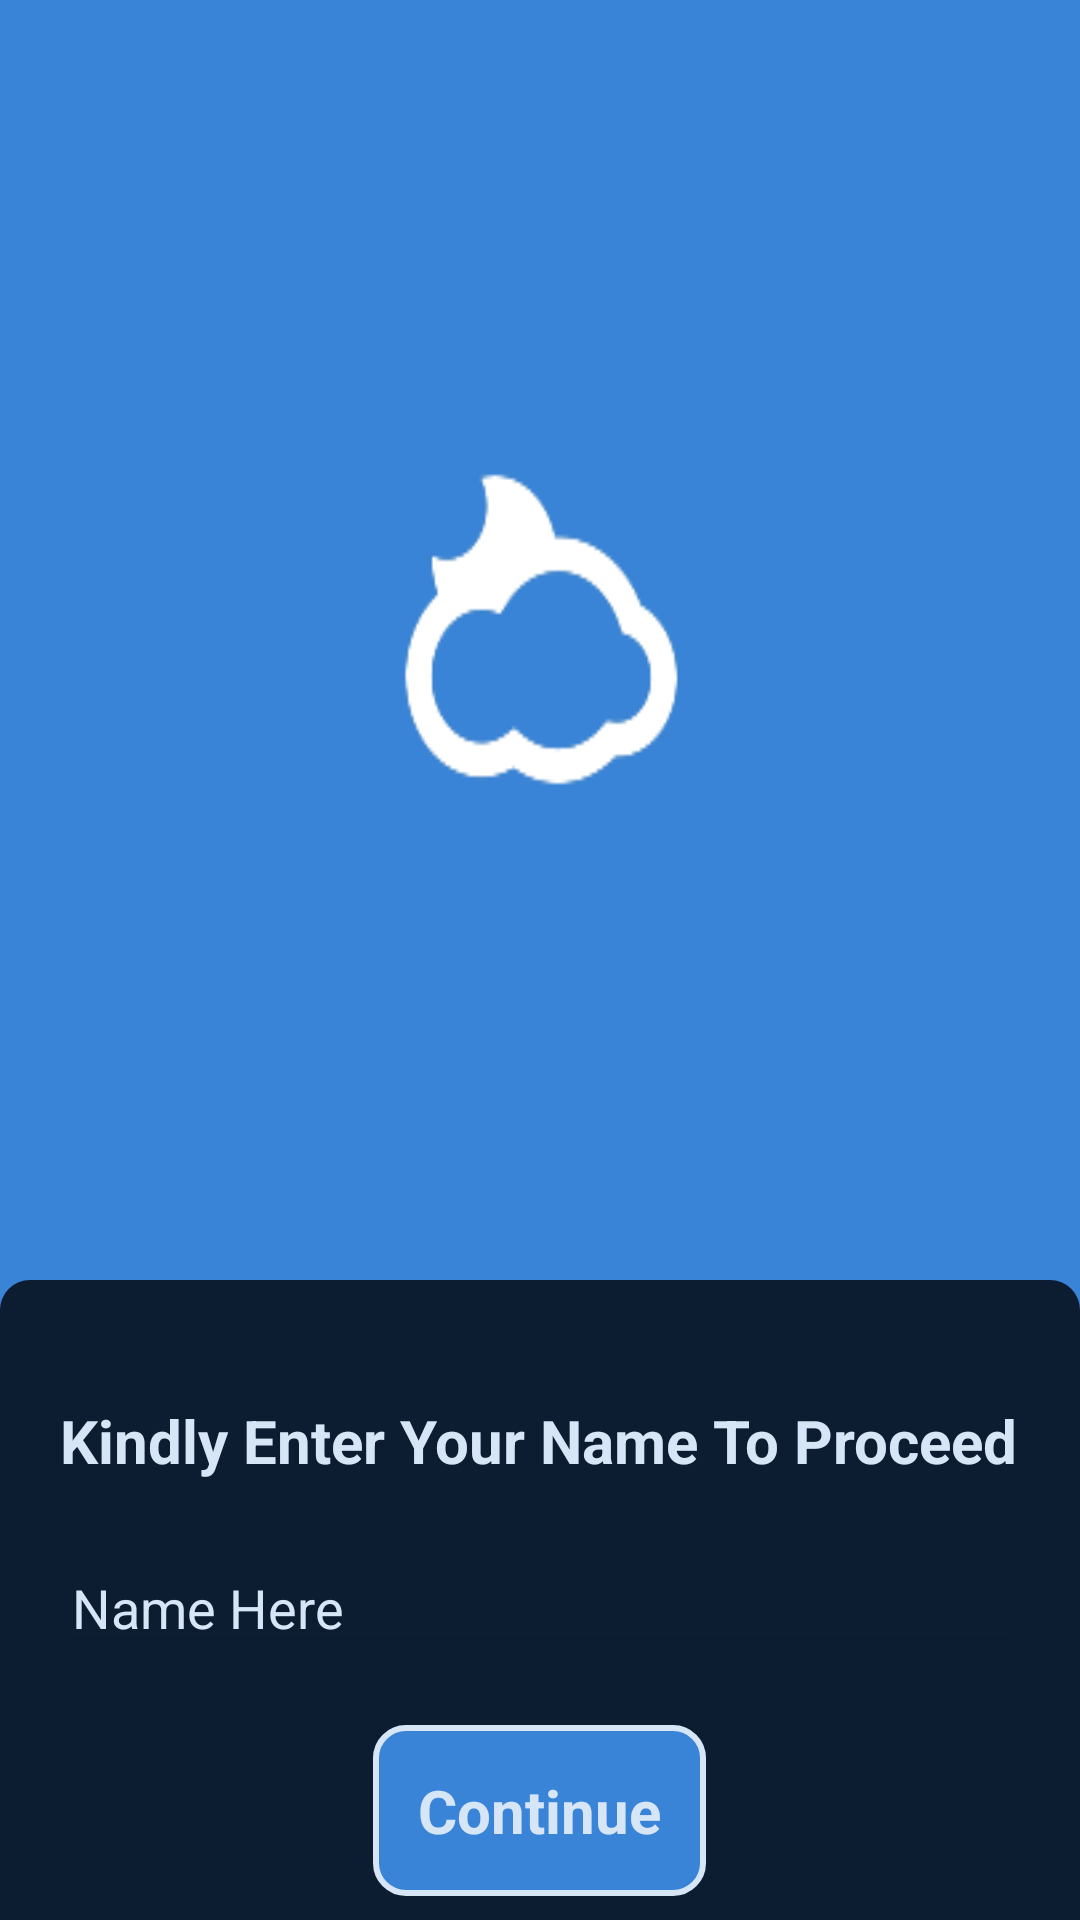

Icon click points for this 1080 × 1920 phone screenshot, format point (x, y):
weather: point (541, 629)
